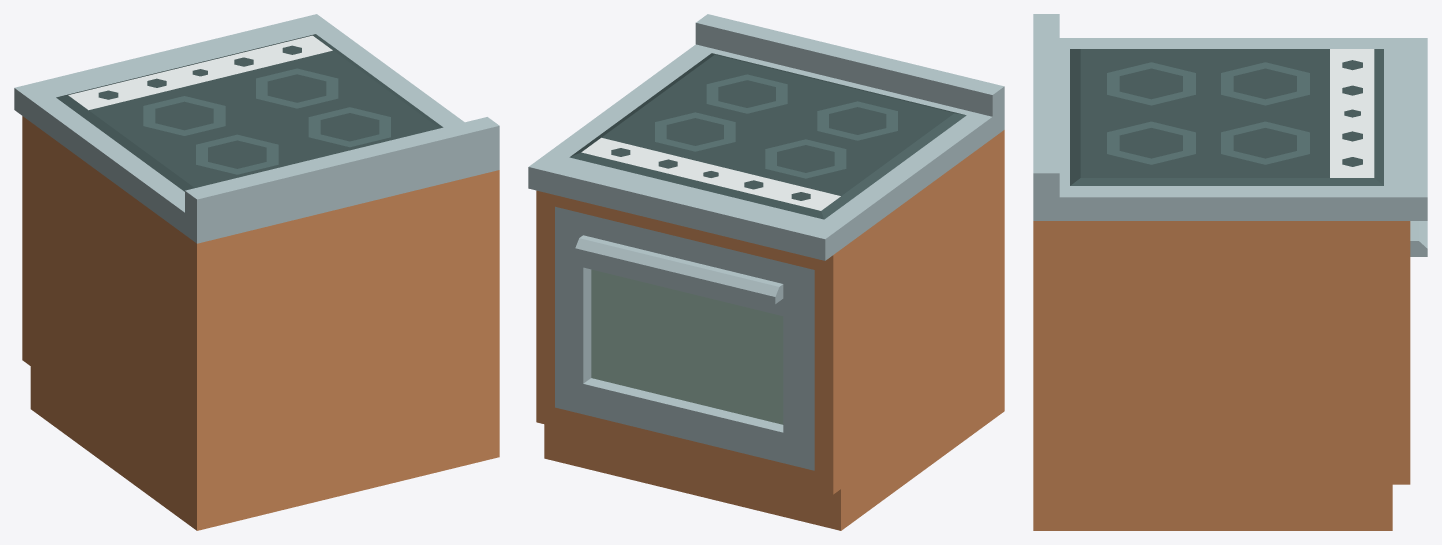
Rendered from Kitchen Stove Electric.glb.
The picture shows the model from 3 angles, left to right: view 1: azimuth 30°, elevation 25°; view 2: azimuth 150°, elevation 25°; view 3: azimuth 270°, elevation 25°; orthographic projection. The views are drawn at different scales.
Visible parts, largest first — view 1: kitchenStoveElectric; view 2: kitchenStoveElectric; view 3: kitchenStoveElectric.
Part boxes in pixels (<box>): kitchenStoveElectric: <box>14,14,499,530</box>; kitchenStoveElectric: <box>528,14,1004,530</box>; kitchenStoveElectric: <box>1033,14,1427,530</box>.
Size of the model in its own units: 0.43 by 0.45 by 0.45.
